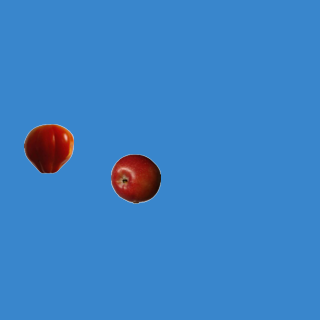Apple Braeburn: (110, 153, 160, 203)
Tomato 1: (23, 123, 73, 173)
